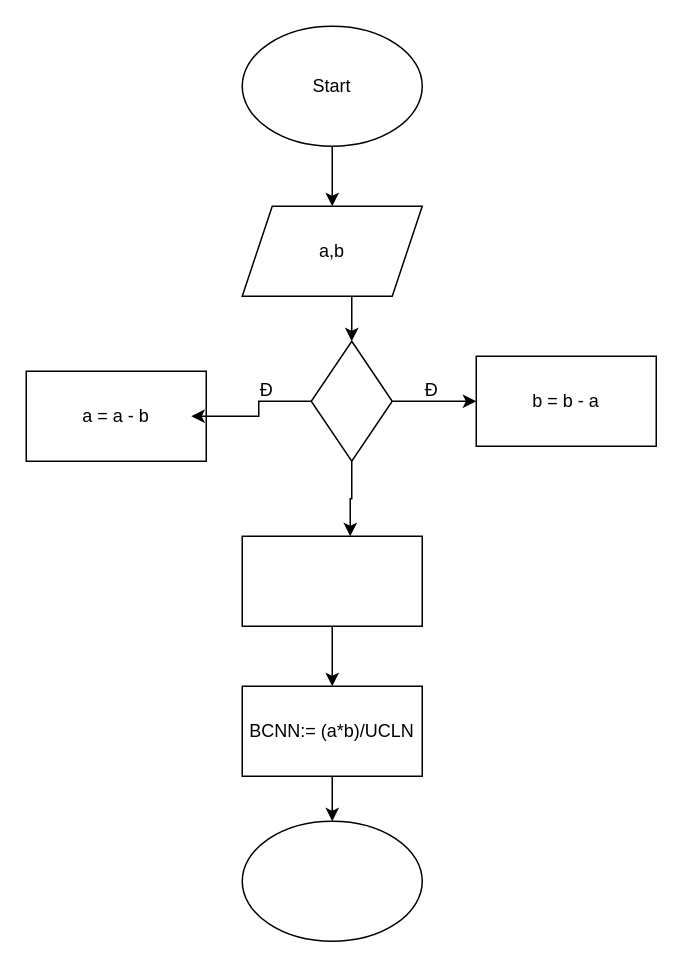
Some shapes in this 683 by 968 pixel diagram are drawn without their labels. The box of each missing label's shape, as (x1, y1, x2, y2) in pixels:
a = b: (310, 340, 392, 461)
End: (241, 820, 422, 941)
UCLN:= a: (241, 535, 422, 626)
